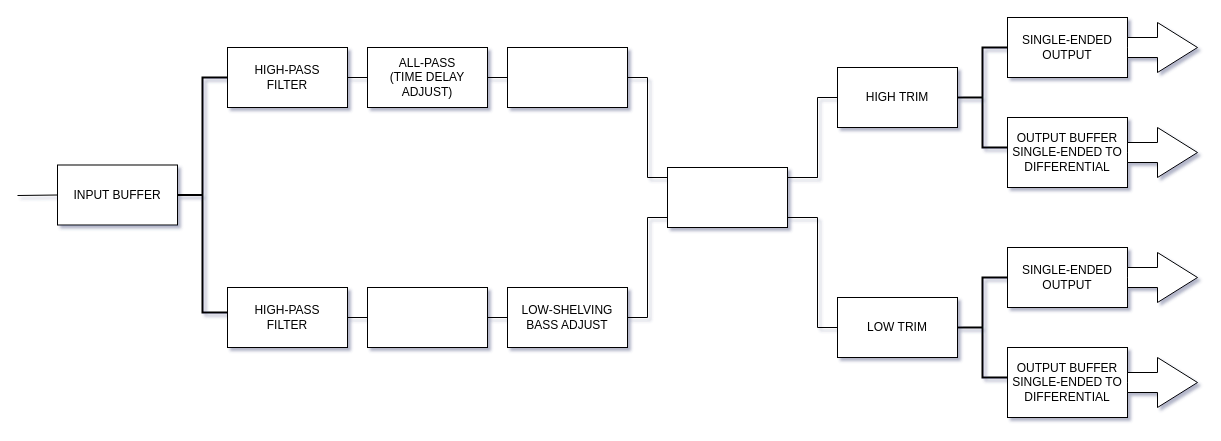
This 1221x441 diagram has some shape labels left out. Here are the shapes that lost their labels. From the top down, the box of each, then its label:
(506, 46, 628, 108): HIGH-SHELVING CUT/BOOST
(666, 166, 788, 228): MASTER TRIM
(366, 286, 488, 348): LOW-PASS FILTER
